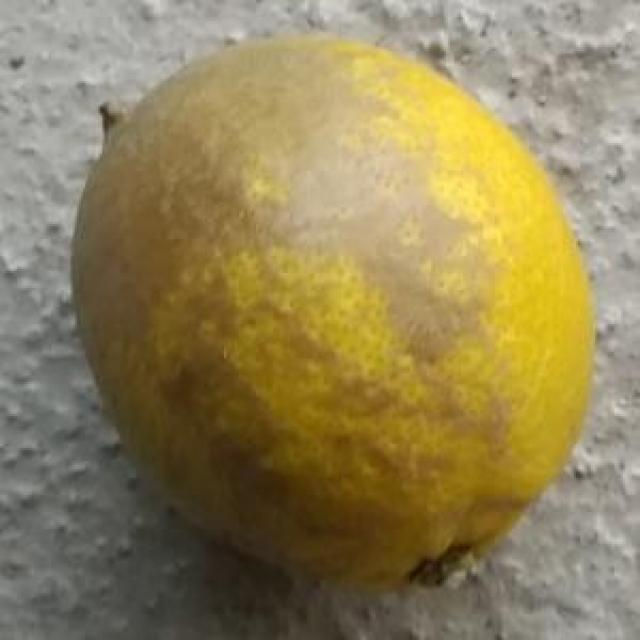lemon: (69, 27, 598, 590)
